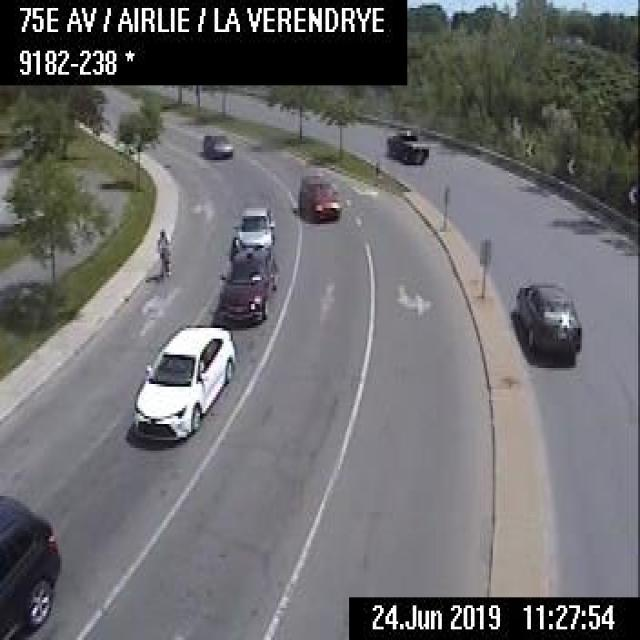cyclist: (154, 224, 171, 280)
vehicle: (127, 318, 236, 440), (0, 488, 62, 637), (510, 278, 581, 365), (217, 244, 275, 326), (230, 202, 276, 255), (294, 172, 339, 222), (384, 122, 427, 162), (202, 129, 232, 159)
